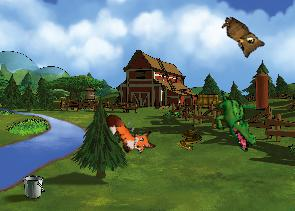crocodile: (200, 88, 269, 154)
fox: (102, 101, 159, 163)
owl: (213, 14, 267, 62)
